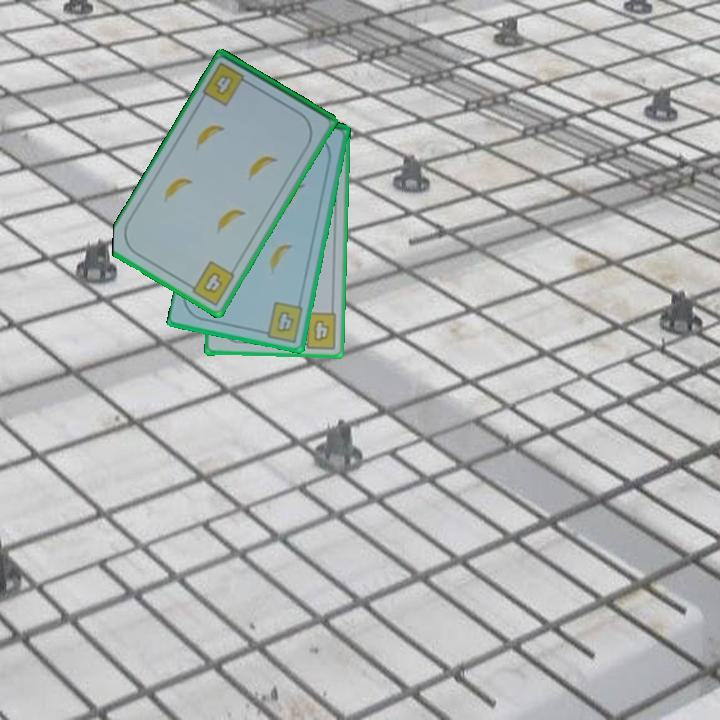4b: (184, 257, 238, 309), (199, 59, 255, 109), (258, 298, 306, 345), (295, 309, 340, 352)
